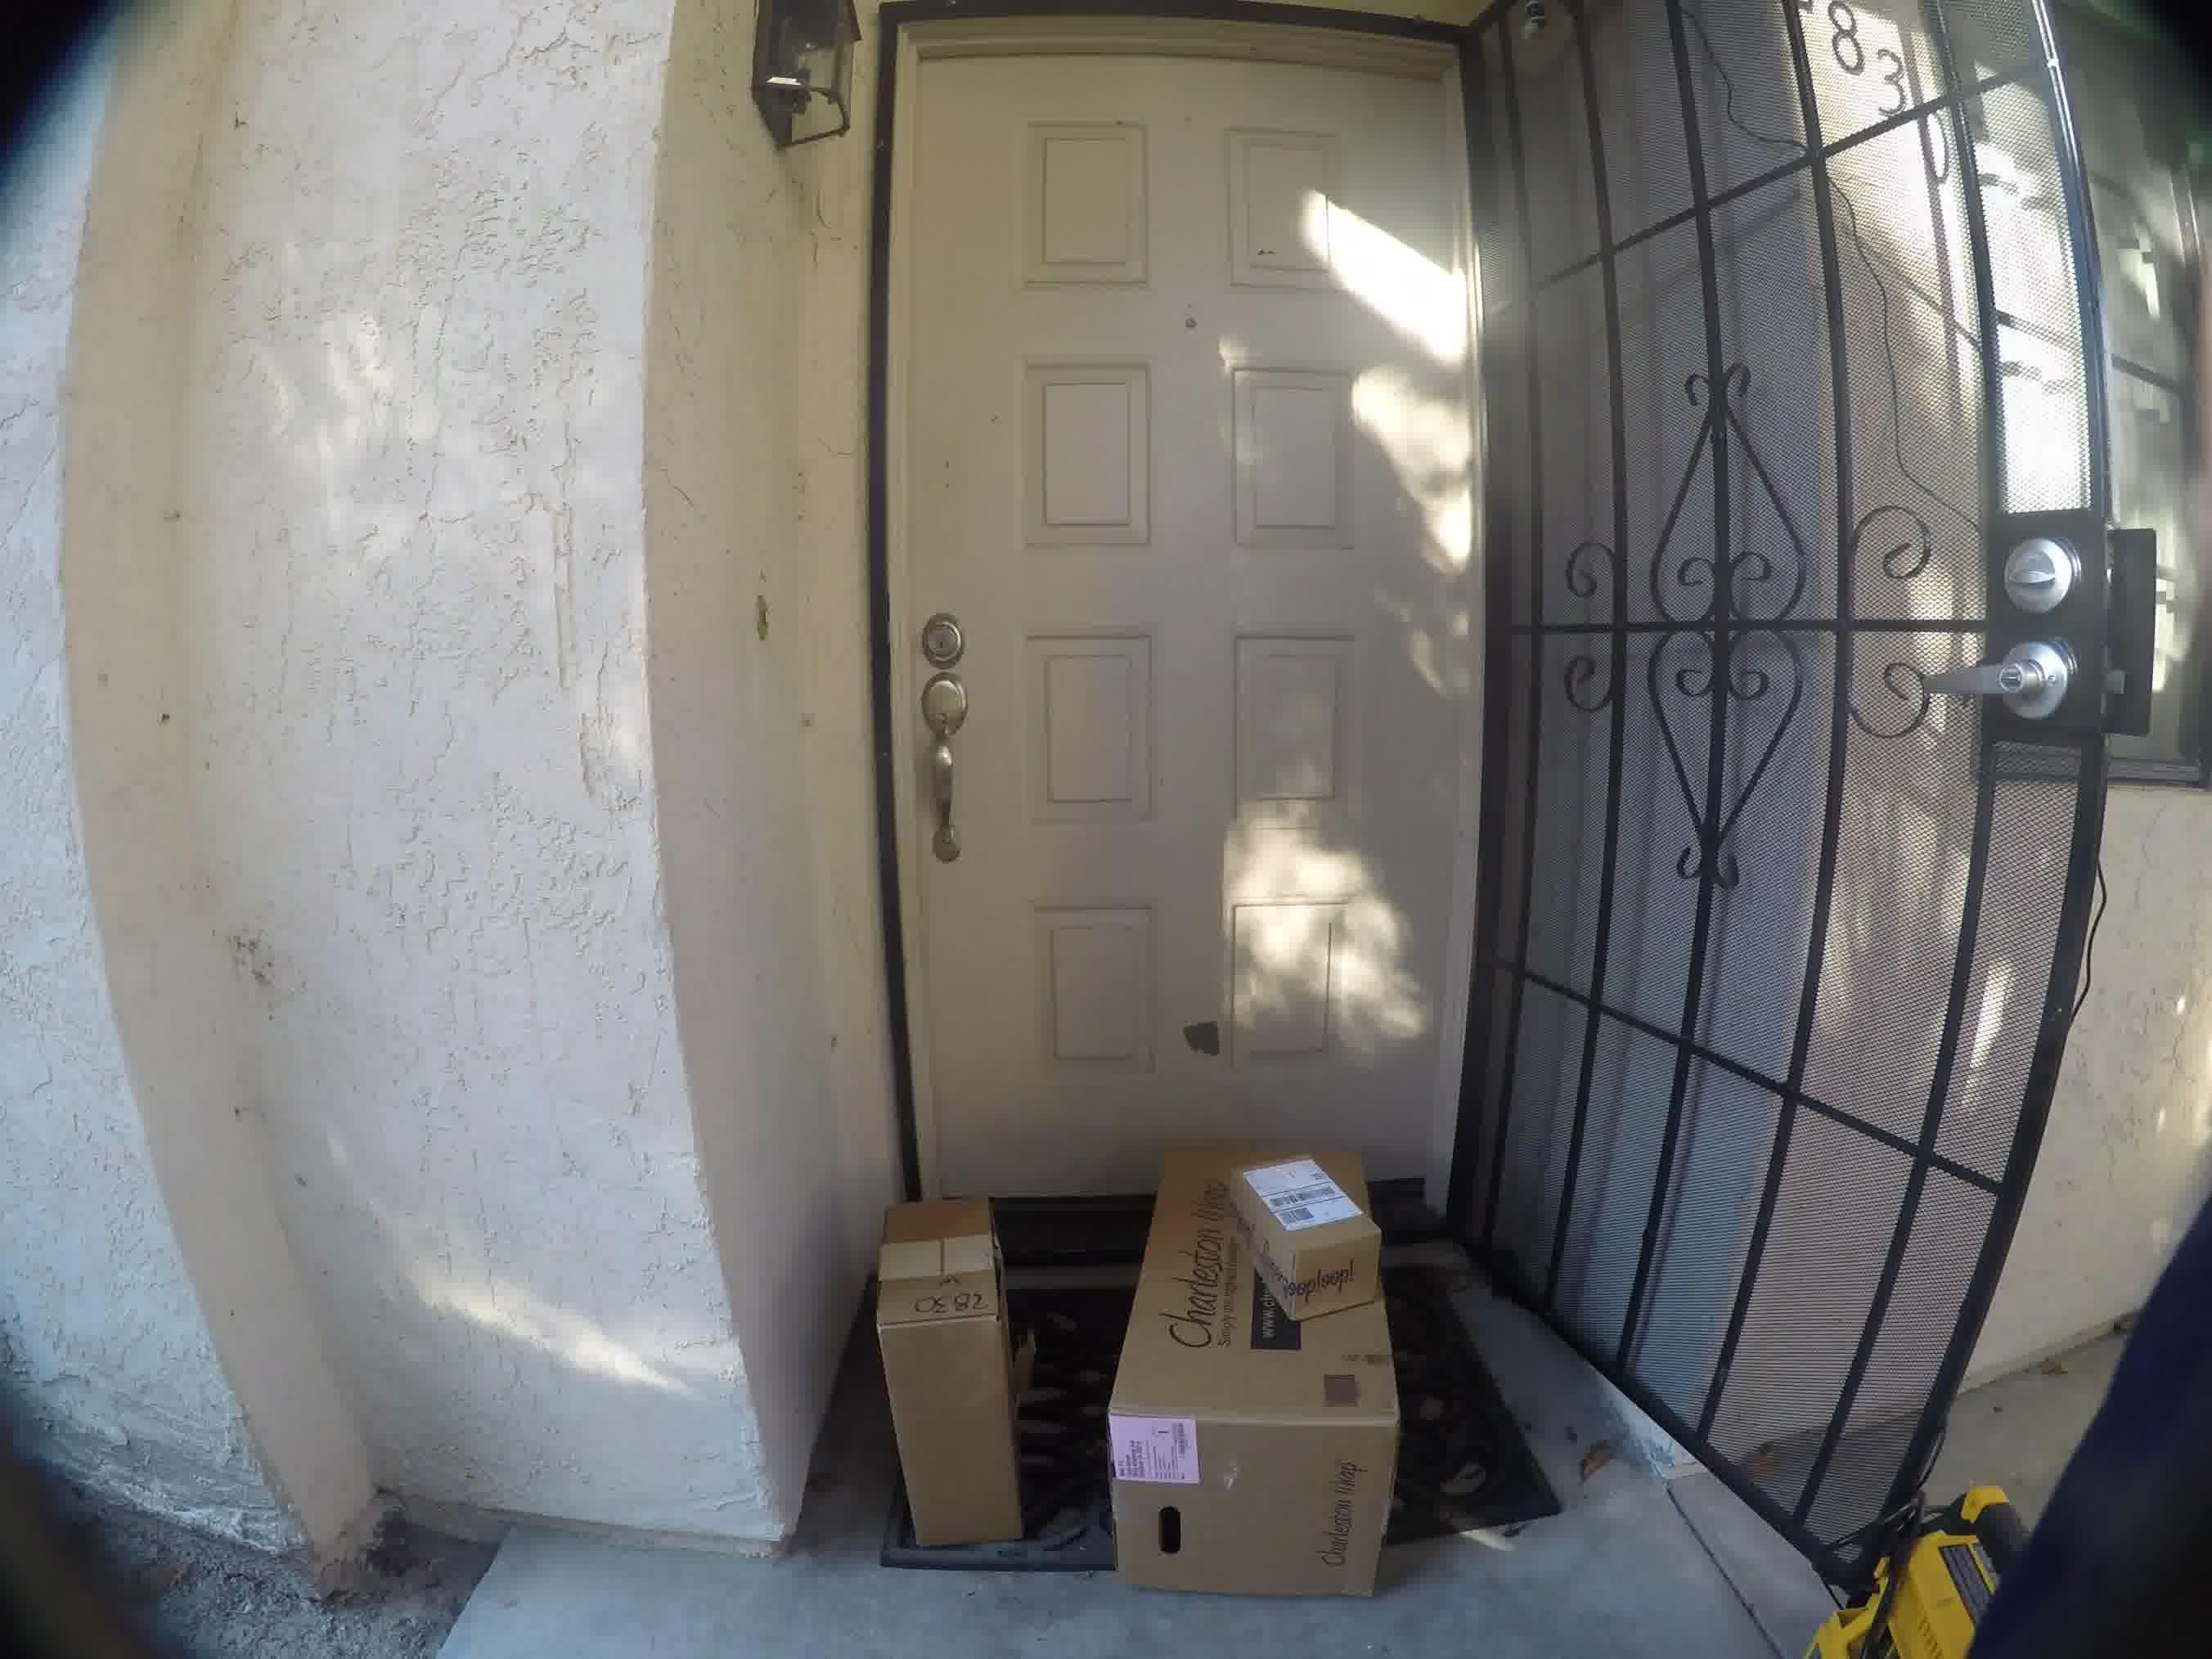box: (1120, 1272, 1418, 1619), (866, 1176, 1022, 1546), (1211, 1155, 1399, 1302)
